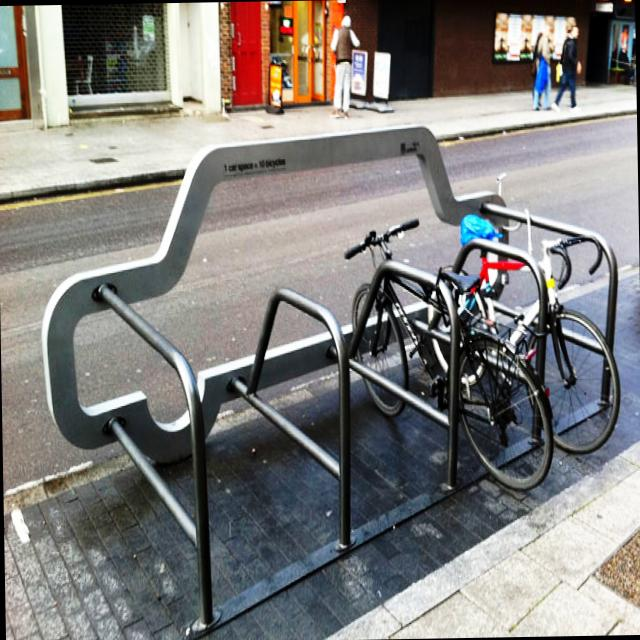bike: (340, 212, 557, 499), (424, 210, 622, 457)
